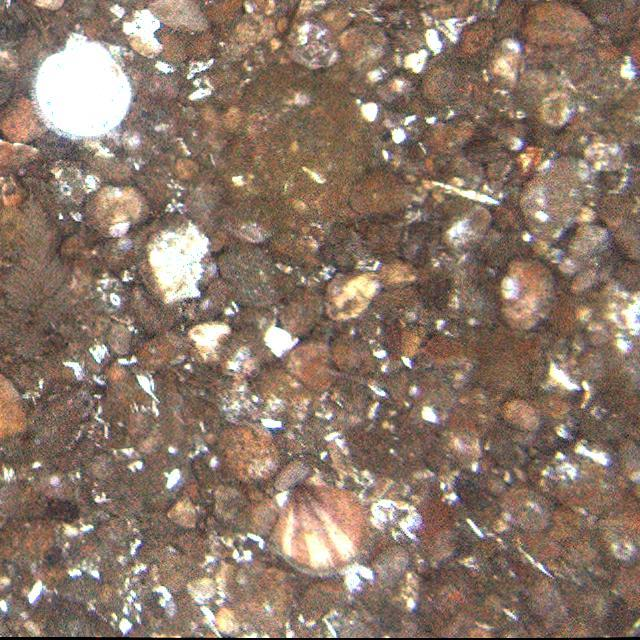scallop: (270, 475, 372, 579)
